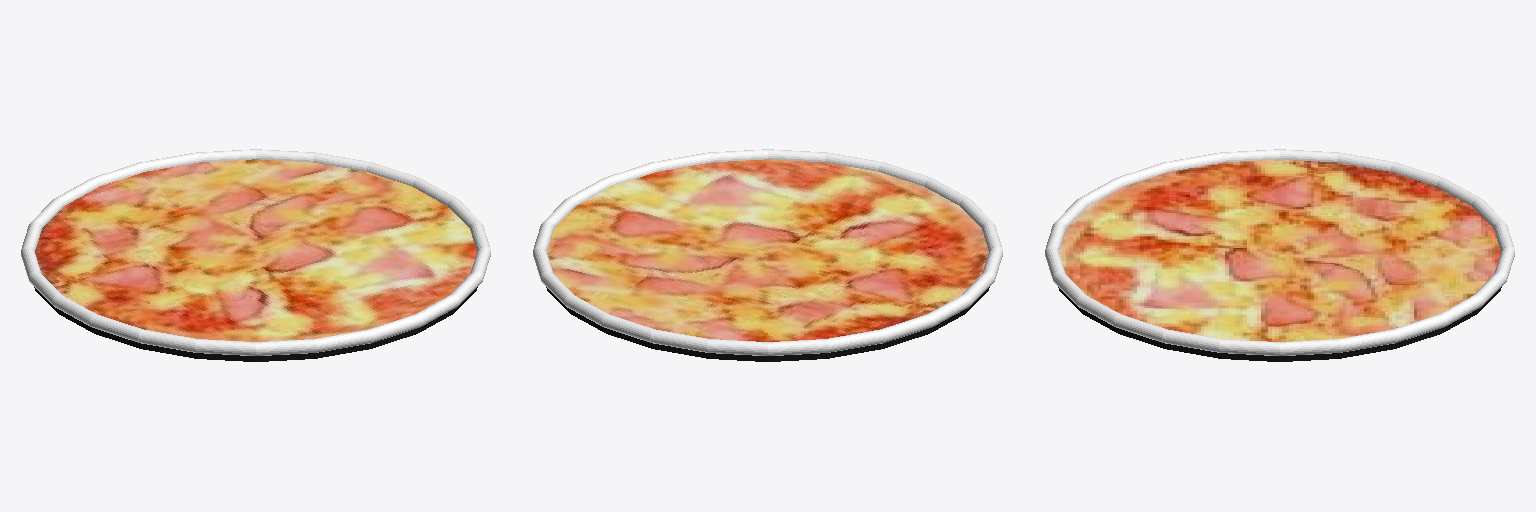
3 renders of one model, left to right at view 1: azimuth 30°, elevation 25°; view 2: azimuth 150°, elevation 25°; view 3: azimuth 270°, elevation 25°, orthographic.
Parts seen in each view (by area): view 1: Mesh1 hawaiian1 Model; view 2: Mesh1 hawaiian1 Model; view 3: Mesh1 hawaiian1 Model.
Boxes of the visible parts, <box> form: Mesh1 hawaiian1 Model: <box>21,149,490,361</box>; Mesh1 hawaiian1 Model: <box>533,149,1002,361</box>; Mesh1 hawaiian1 Model: <box>1045,149,1514,361</box>.
Size of the model in its own units: 33 by 1.5 by 33.
Materials: 3 (1 with a texture image).